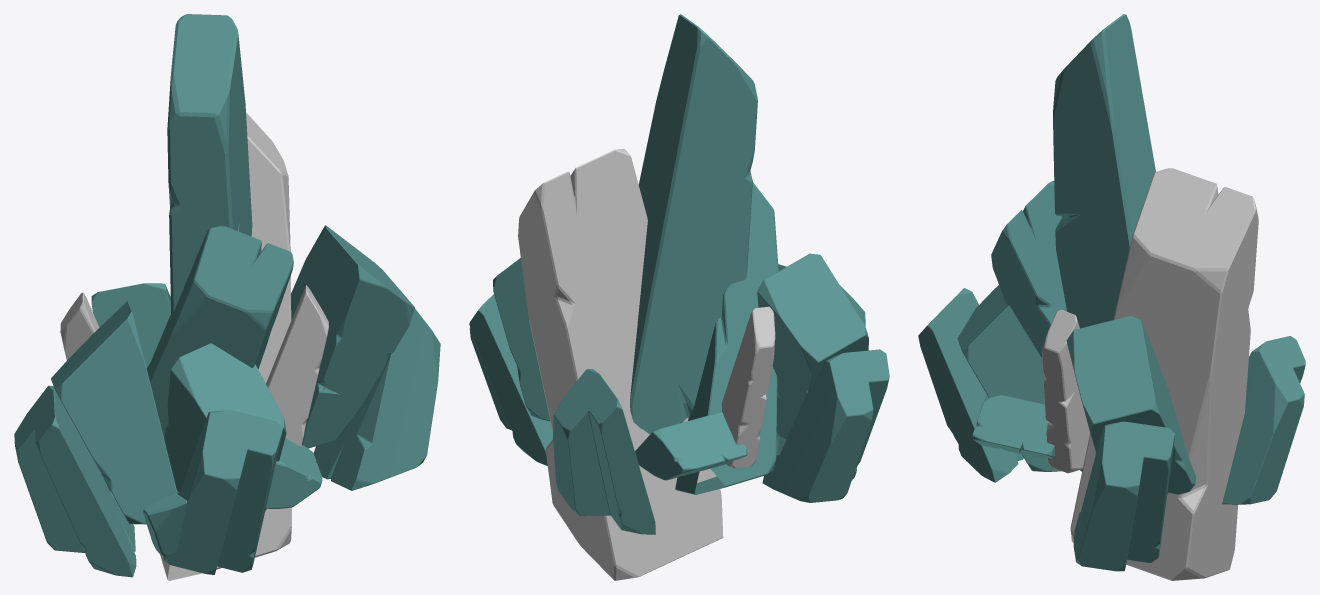
Rendered from RocksLarge.fbx.
3 views of the same model, side by side, from view 1: azimuth 30°, elevation 25°; view 2: azimuth 150°, elevation 25°; view 3: azimuth 270°, elevation 25° (orthographic). The views are drawn at different scales.
Visible parts, largest first — view 1: RocksLarge; view 2: RocksLarge; view 3: RocksLarge.
Boxes of the visible parts, x1,y1,x2,y2 form: RocksLarge: (14,14,440,580); RocksLarge: (469,14,889,580); RocksLarge: (918,14,1305,580).
Bounding box in the file's own units: 1433 × 1854 × 1207.
